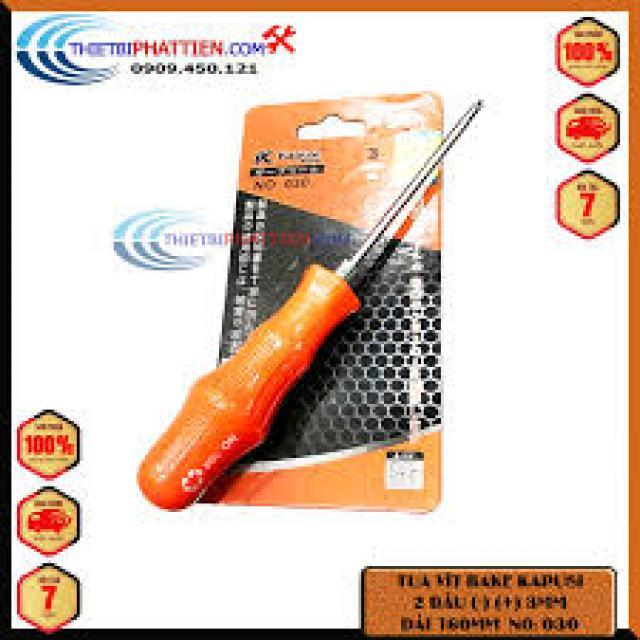screwdriver: (130, 92, 487, 516)
